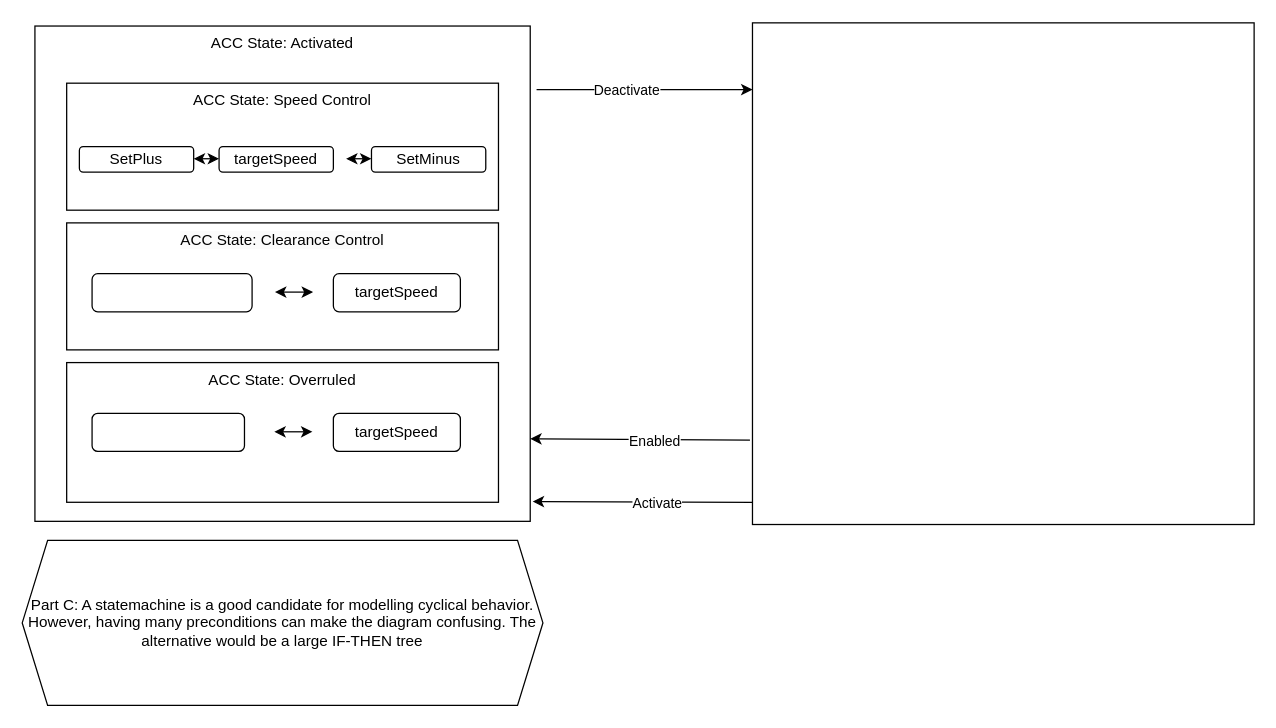
Image size: 1276x728. Some labels were removed from this diagram. Each missing label, with the centre of its shape:
"ACC State: Deactivated" belongs at [1002,273].
"driverEngaging" belongs at [167,431].
"ValidPrececessor" belongs at [171,292].
